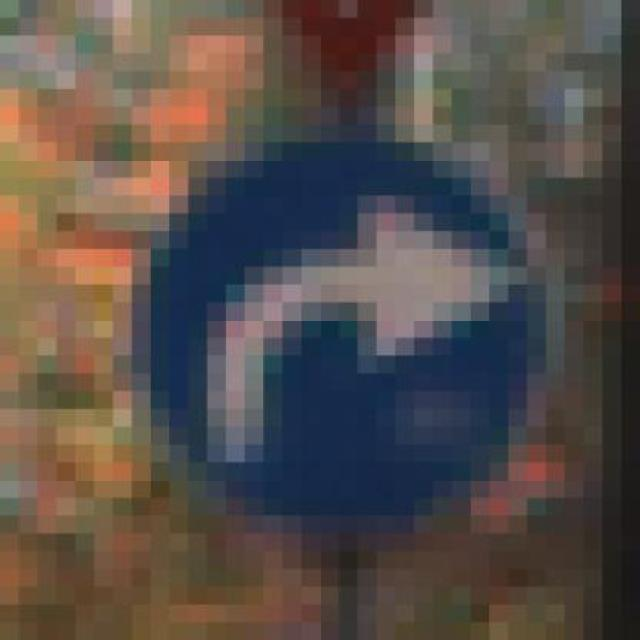Turn right ahead: (93, 107, 564, 516)
